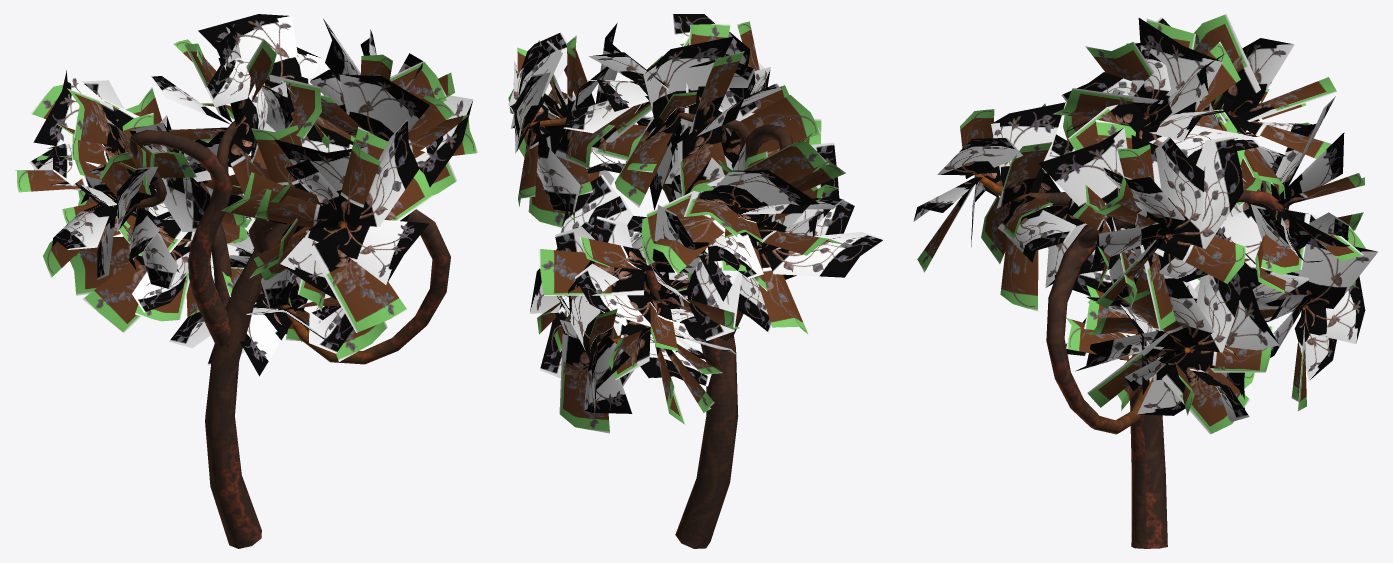
The model's file is Tree_B.dae.
The picture shows the model from 3 angles, left to right: view 1: azimuth 30°, elevation 25°; view 2: azimuth 150°, elevation 25°; view 3: azimuth 270°, elevation 25°; orthographic projection.
Parts seen in each view (by area): view 1: Leaves, Tree_B; view 2: Leaves, Tree_B; view 3: Leaves, Tree_B.
Boxes of the visible parts, x1,y1,x2,y2 form: Leaves: [15, 14, 478, 376]; Tree_B: [114, 120, 450, 548]; Leaves: [508, 14, 883, 433]; Tree_B: [530, 112, 792, 548]; Leaves: [913, 14, 1377, 434]; Tree_B: [974, 112, 1305, 548].
Size of what is drawn, in the model's own units: 1114 by 1358 by 1107.
